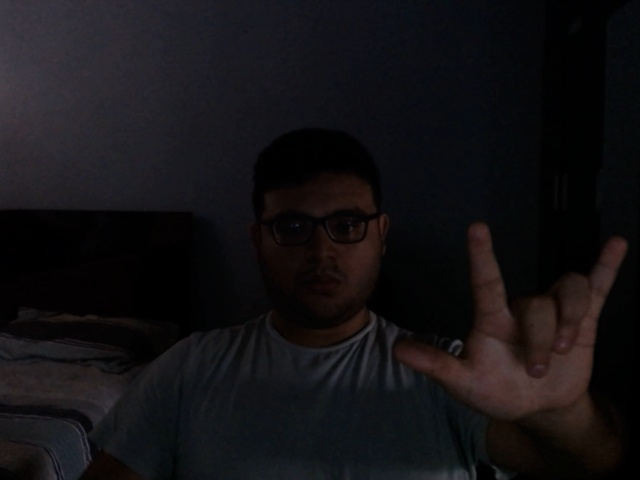I love you: (386, 220, 629, 438)
